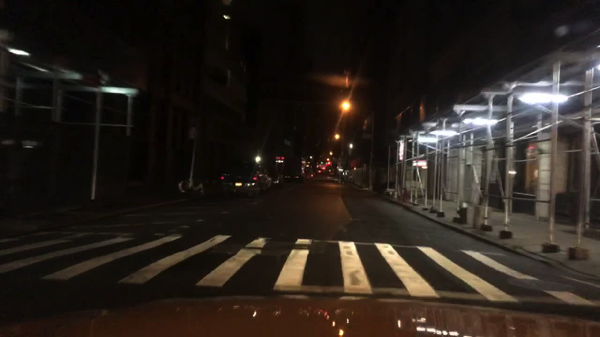car: (216, 165, 270, 197), (268, 169, 285, 186), (285, 171, 301, 180), (301, 170, 315, 179), (315, 165, 325, 174), (325, 167, 333, 174)
traffic sign: (363, 131, 373, 140)
